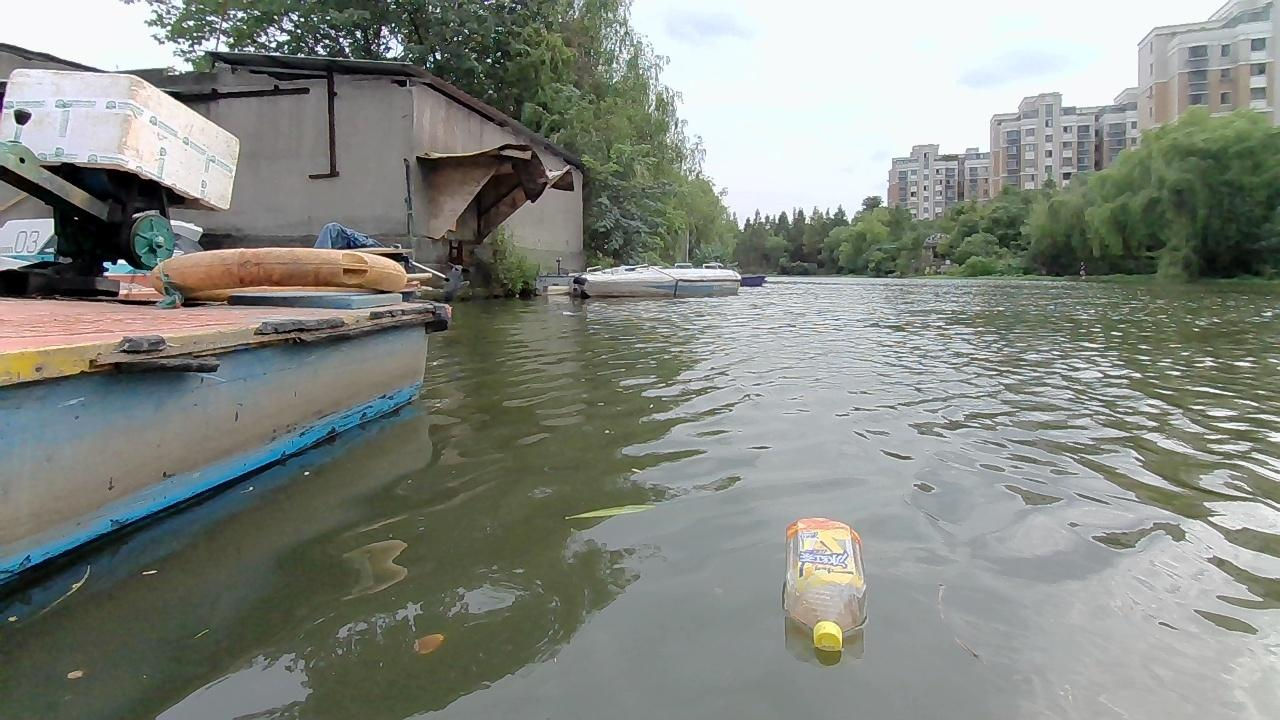bottle: (779, 515, 877, 654)
